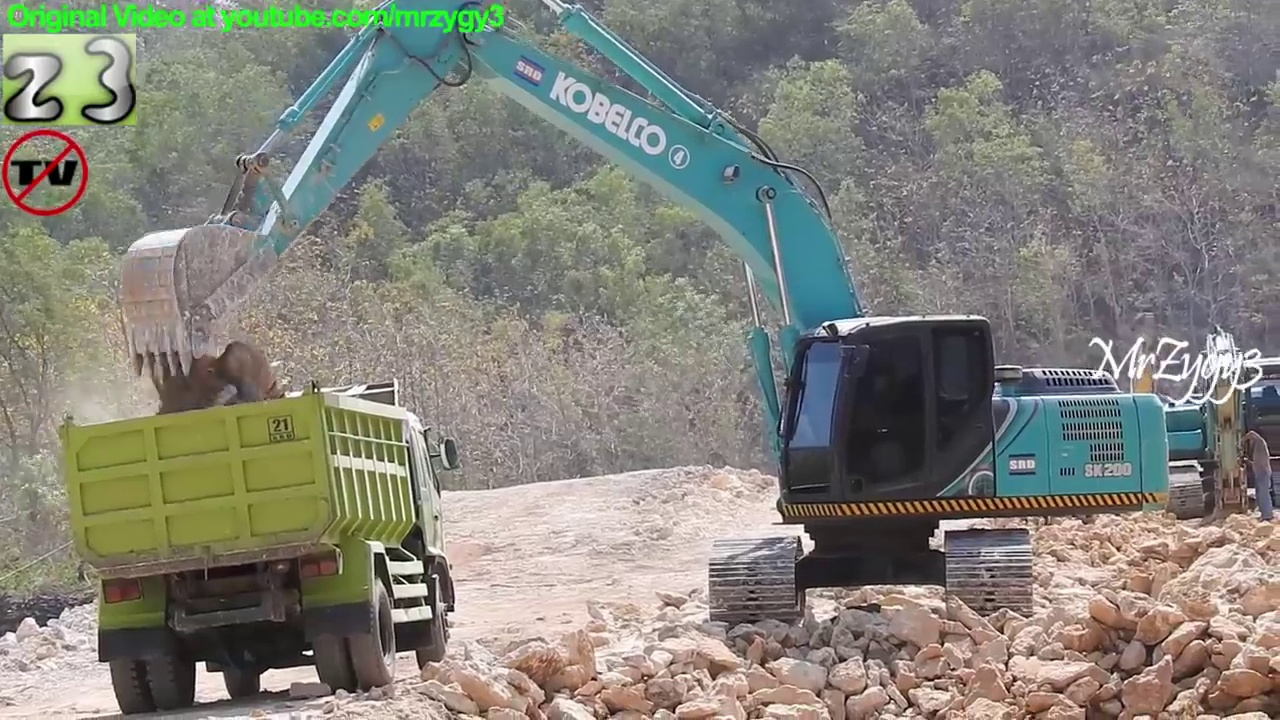excavator: (108, 1, 1181, 638), (1151, 317, 1280, 539), (1074, 320, 1210, 519)
truck: (53, 371, 468, 720)
worker: (1234, 420, 1278, 527)
